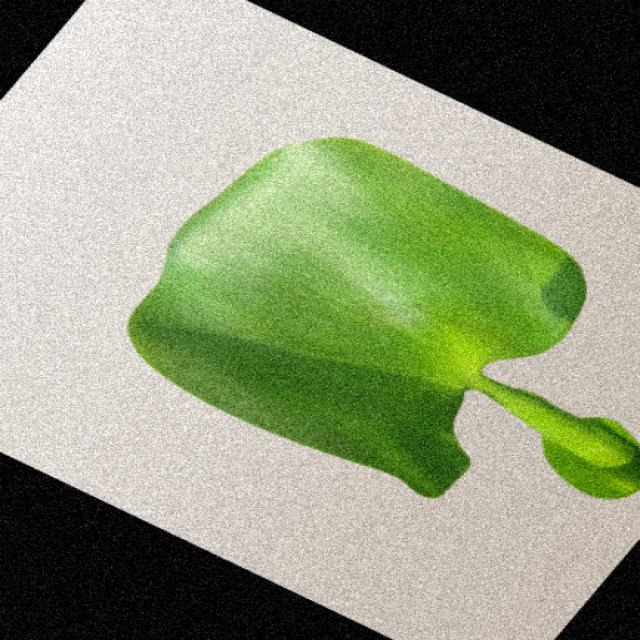daun sehat: (128, 139, 638, 498)
